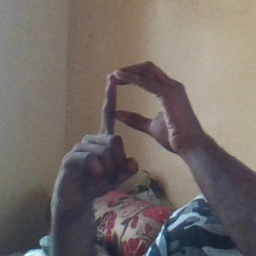P: (53, 58, 193, 182)
